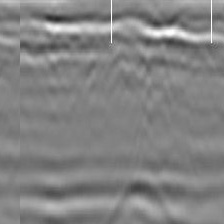Utility: (106, 176, 174, 224)
